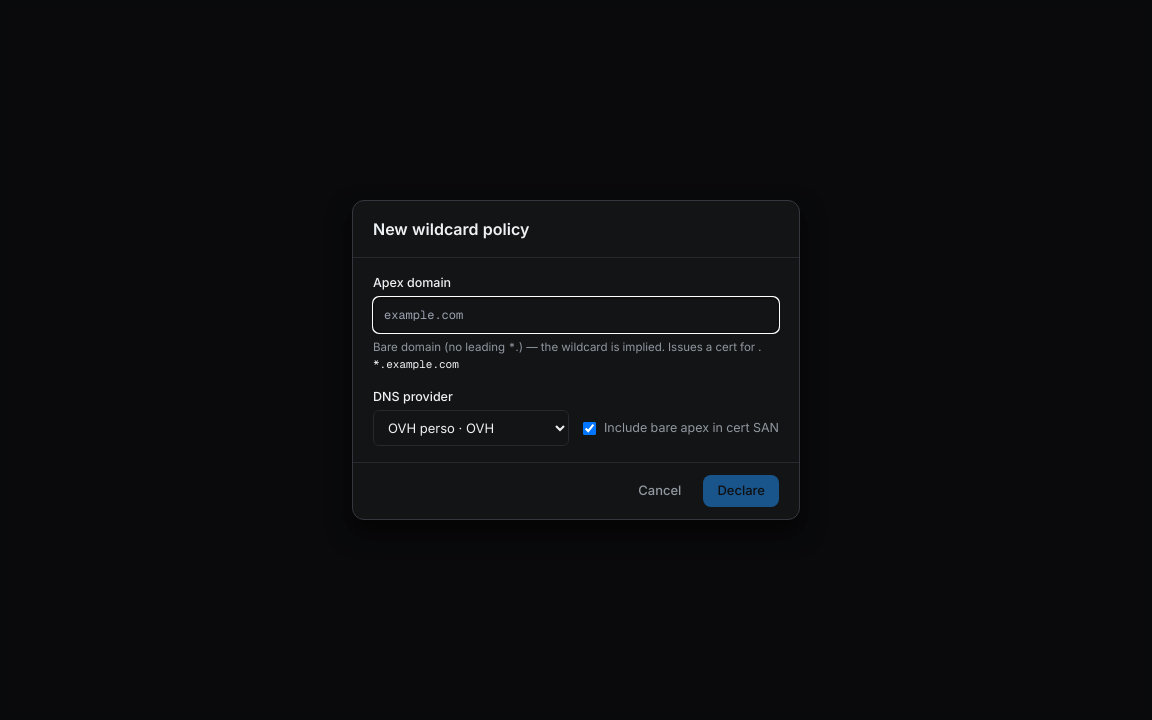
Test case: WildcardApexWizard › Declare button is disabled until apex is non-empty
Expected: the button "Declare" is disabled, [703, 475, 779, 507]
Type "x.example" into the field labelled "Apex domain" at point(576, 315), box [373, 297, 779, 333]
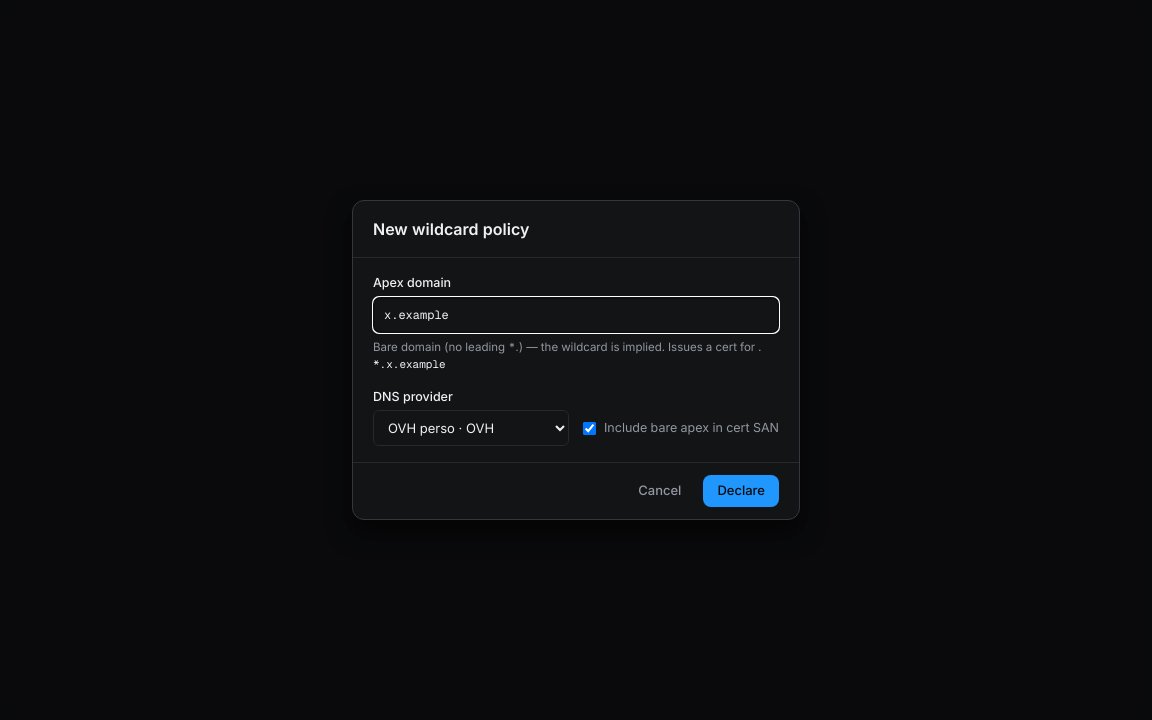
Expected: the button "Declare" is enabled, [703, 475, 779, 507]
